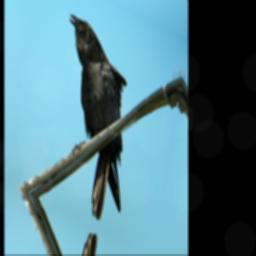Crow: (40, 10, 147, 232)
